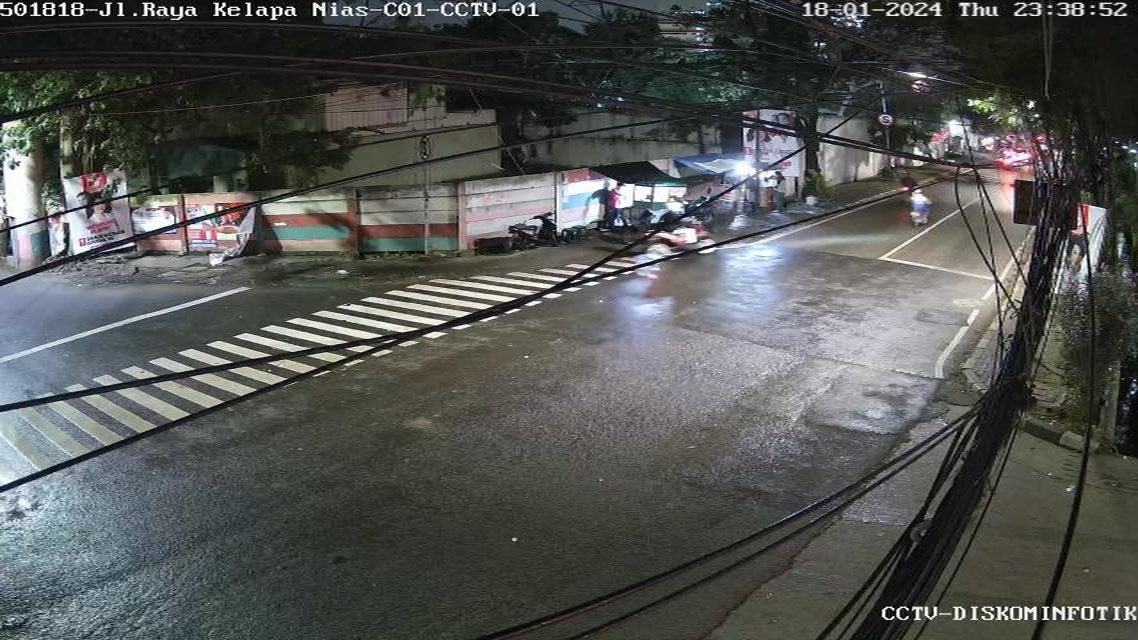Gerobak: (626, 179, 695, 226)
